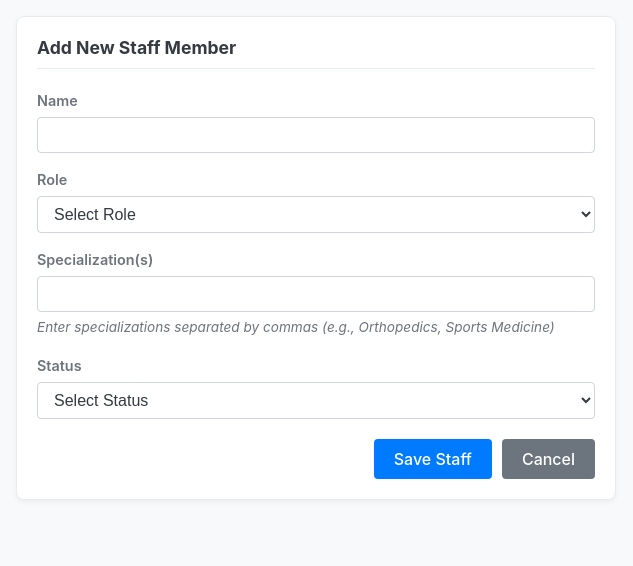
AddStaffForm › resets form and clears errors on cancel
Note: Put some data in the form and trigger validation to show errors
Type "Some Staff Data" into the field with id "staff-name" at [316, 135], box top-left (37, 117), bottom-right (595, 153)
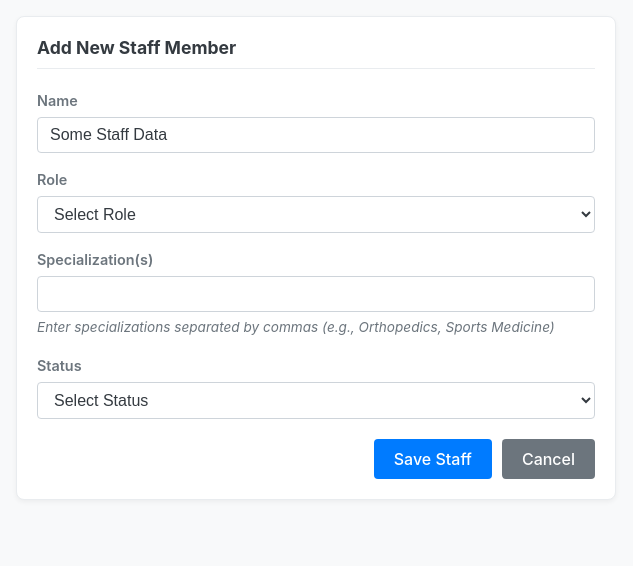
Submit the form
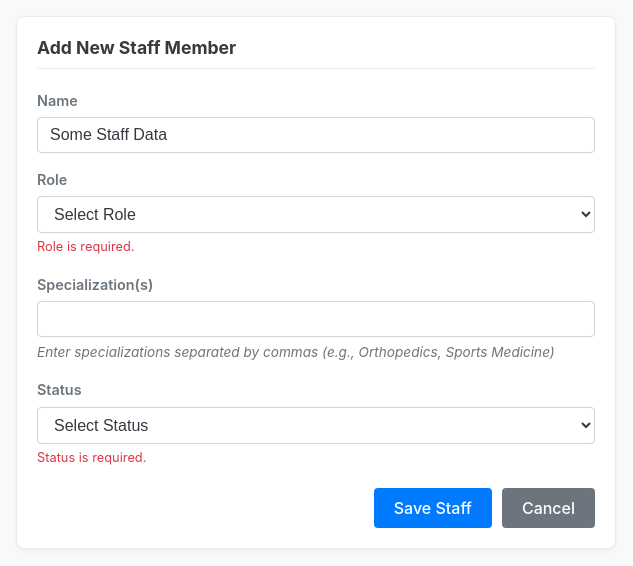
Expected: the text "Role is required." is shown, top-left (37, 239), bottom-right (134, 254)
Note: Click cancel
Click the button "Cancel" at [548, 508], box top-left (502, 488), bottom-right (595, 528)
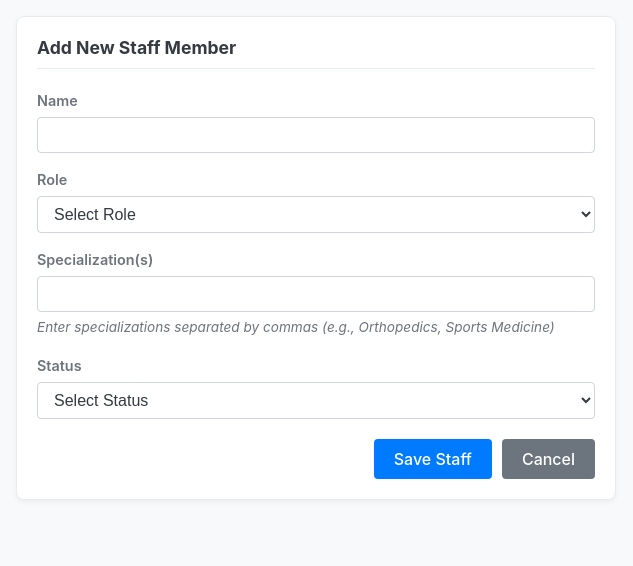
Expected: the field with id "staff-name" is empty, top-left (37, 117), bottom-right (595, 153)
